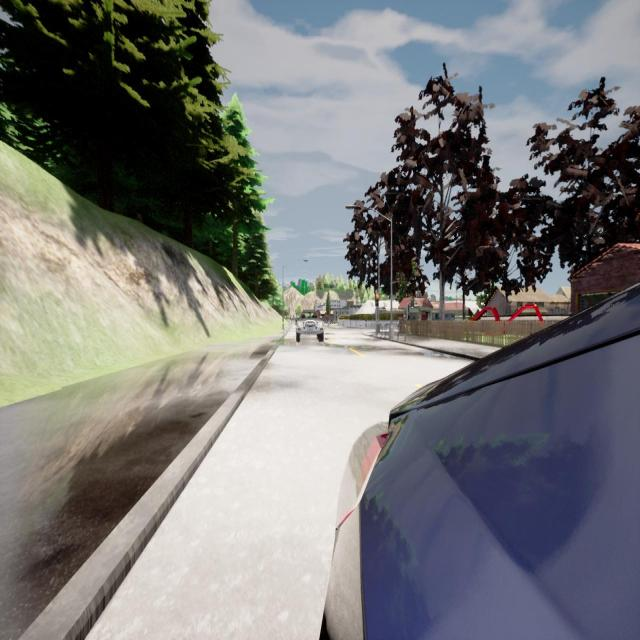Vehicle: (320, 285, 640, 640), (296, 310, 324, 342)
traffic_light: (375, 293, 379, 307)
